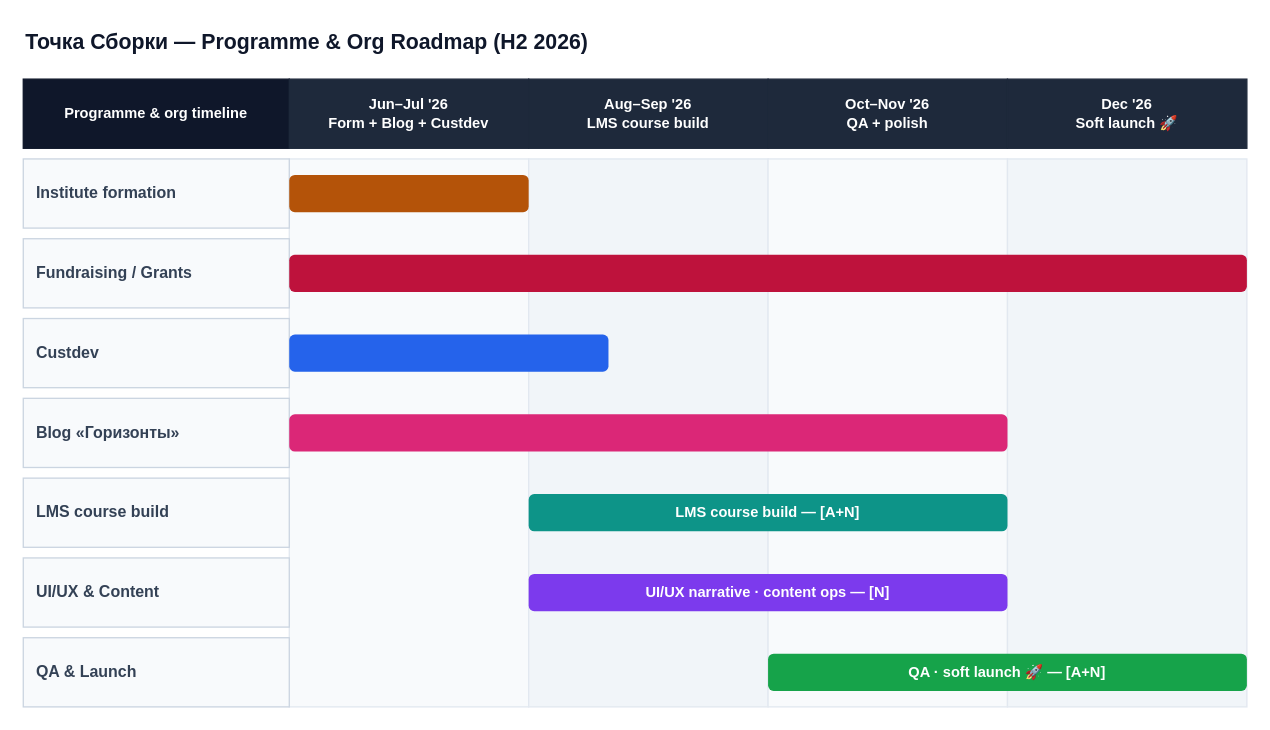
Some shapes in this 1270 by 730 pixel diagram are drawn without their labels. The shapes that lost their labels are listed below. From the top down, each one's centre as x and y in pixels, then its label:
At [408,192]: "нко · board · grants setup — [A]".
At [767,272]: "Grants · donors · sponsors — [N]".
At [448,352]: "Interviews · validation — [N]".
At [648,432]: "«Горизонты» author & co-author — [N]".
